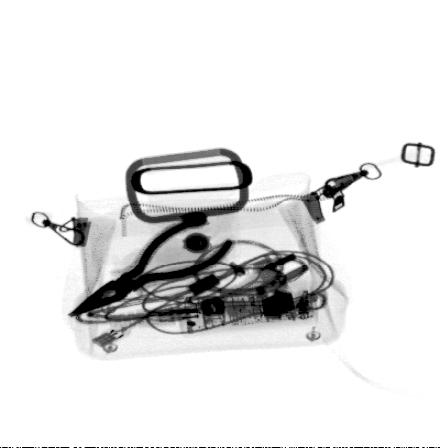Pliers: (68, 218, 236, 318)
